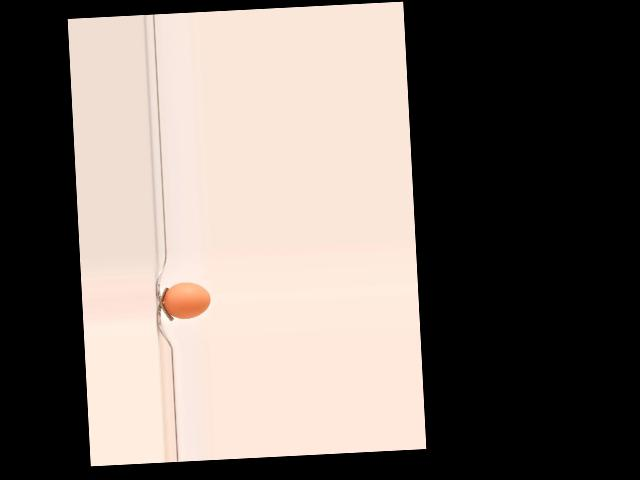egg: (162, 280, 210, 319)
